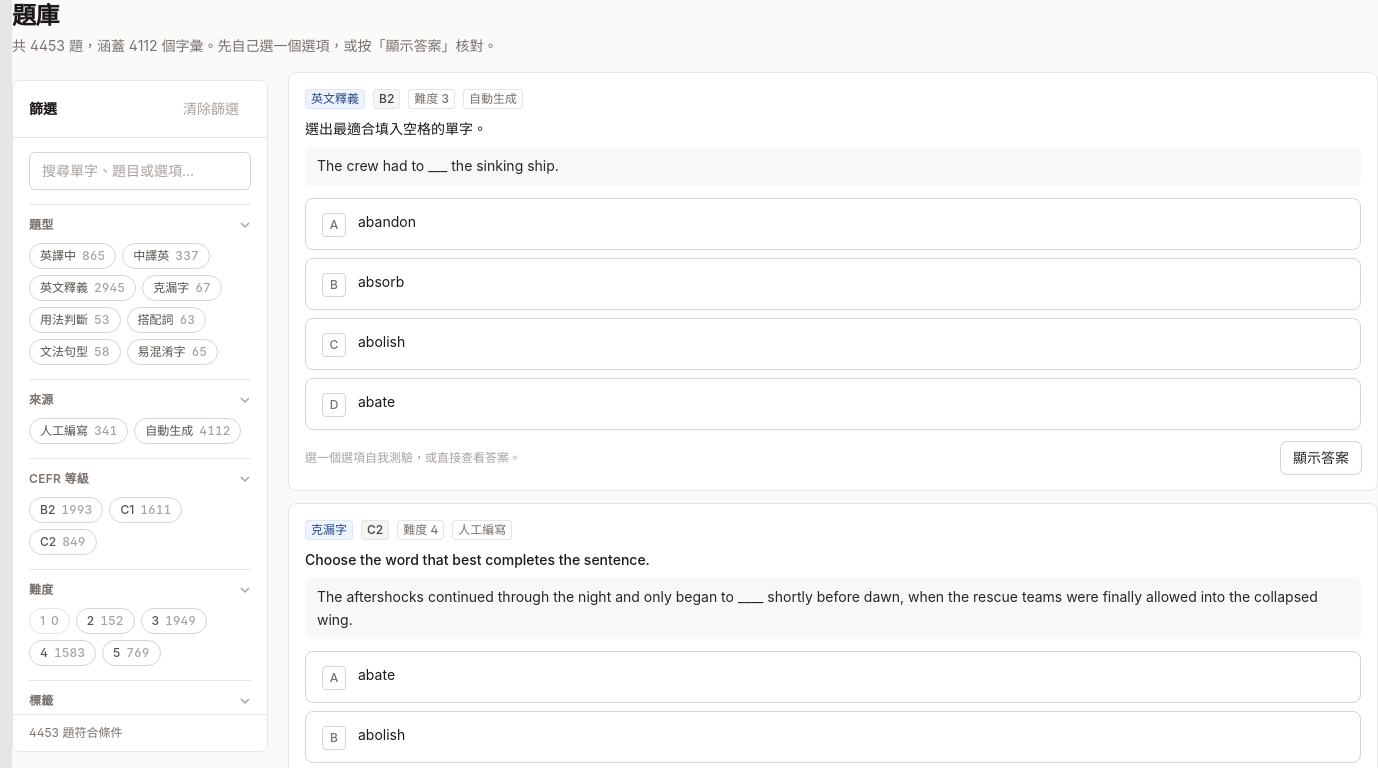
QuestionBankPage › filters the bank by question type and reports the result count
This screenshot has width=1378, height=768.
Expected: the heading "題庫" is shown, [12,1,59,30]
Note: The filter chip carries its facet count, so match the label as a prefix.
Click the button "英文釋義 2945" at (83, 288), box [29,275,136,301]
(page scrolled)
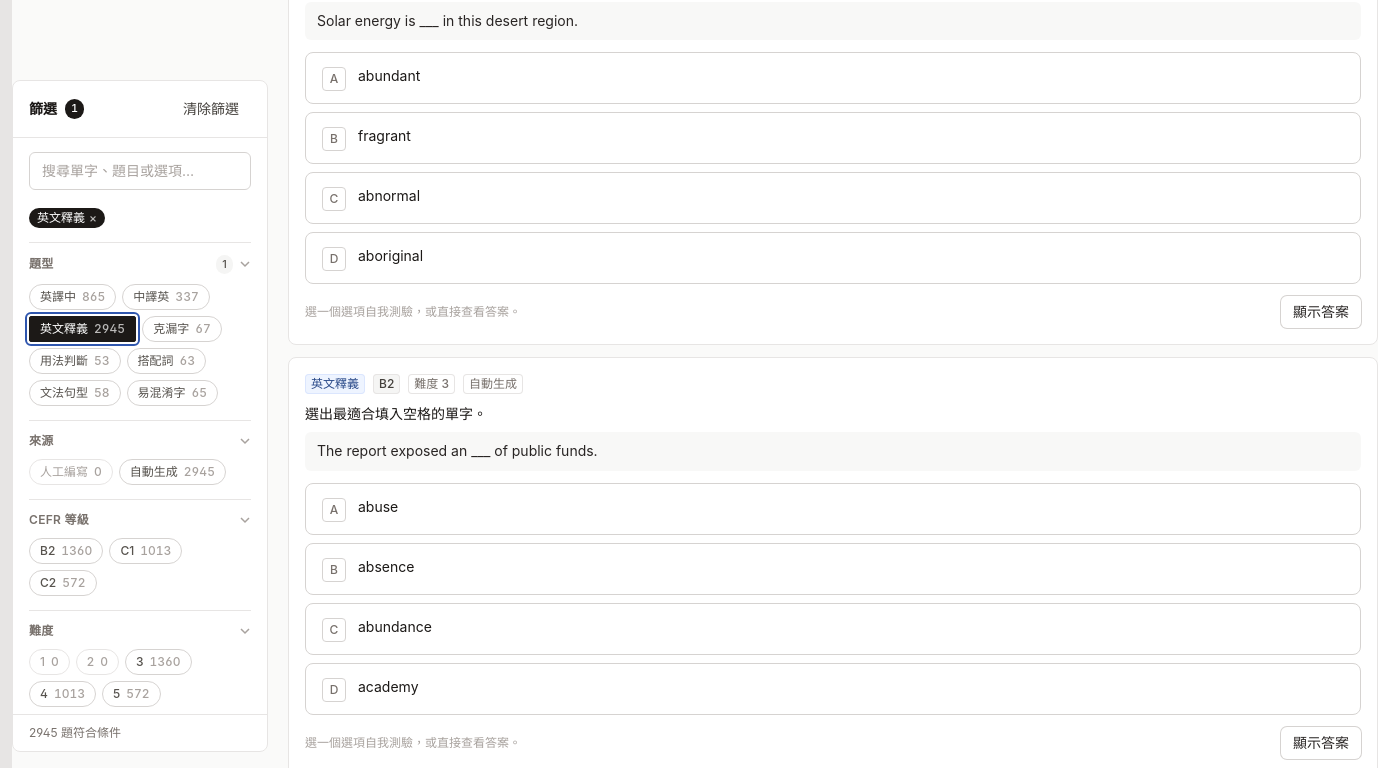
Expected: the 1st text "英文釋義" is shown, [40,321,88,337]
Expected: the button "英文釋義 ×" is shown, [29,208,105,228]
